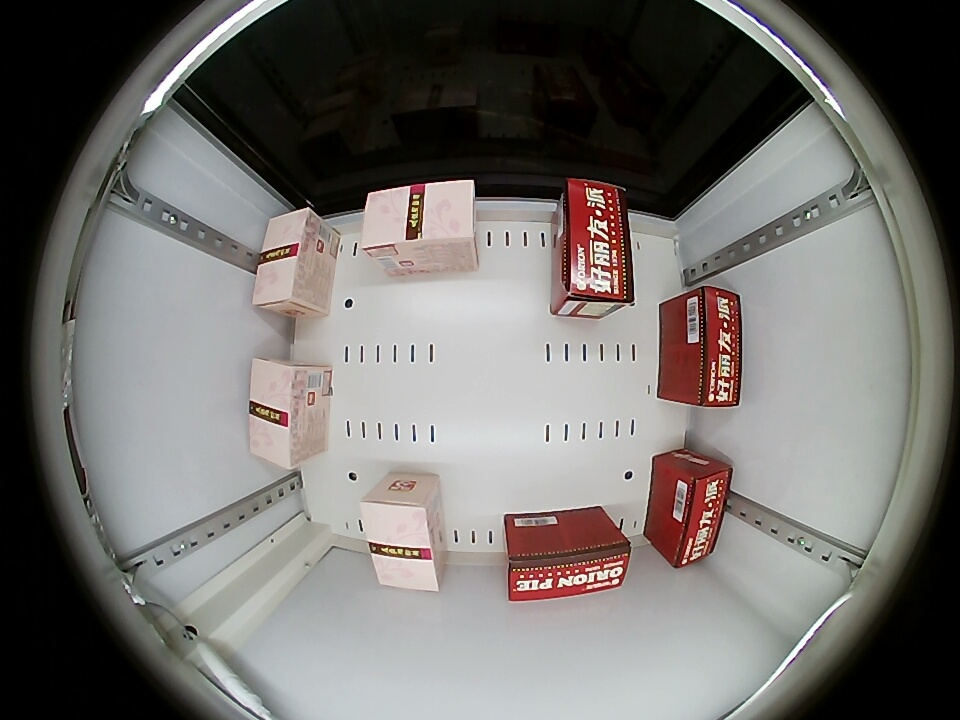haoliyou: (504, 511, 633, 603), (556, 179, 634, 315), (662, 286, 743, 407), (654, 454, 734, 568)
rousongbing: (361, 180, 476, 273), (360, 482, 443, 593), (248, 358, 326, 469), (253, 207, 325, 314)
